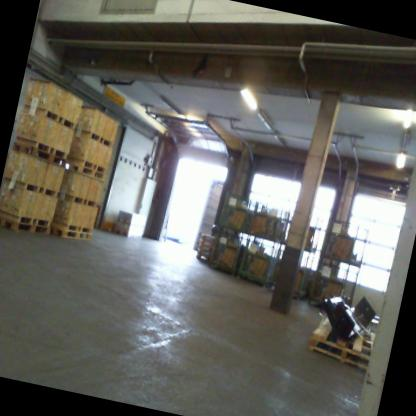pallet: (301, 308, 376, 372), (0, 208, 55, 242), (10, 140, 70, 168), (49, 224, 90, 248), (63, 162, 107, 180), (189, 244, 212, 257), (188, 251, 211, 261), (195, 241, 213, 249), (196, 237, 215, 244), (201, 233, 216, 241)
stillage: (313, 208, 375, 269), (304, 254, 362, 312), (263, 248, 315, 302), (241, 196, 288, 250), (232, 234, 278, 289), (279, 207, 324, 258), (204, 230, 249, 276), (215, 191, 257, 237)
